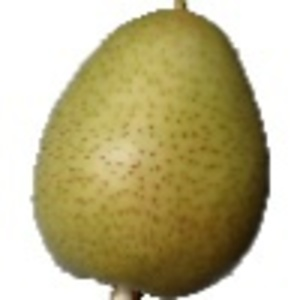pera: (30, 1, 271, 300)
